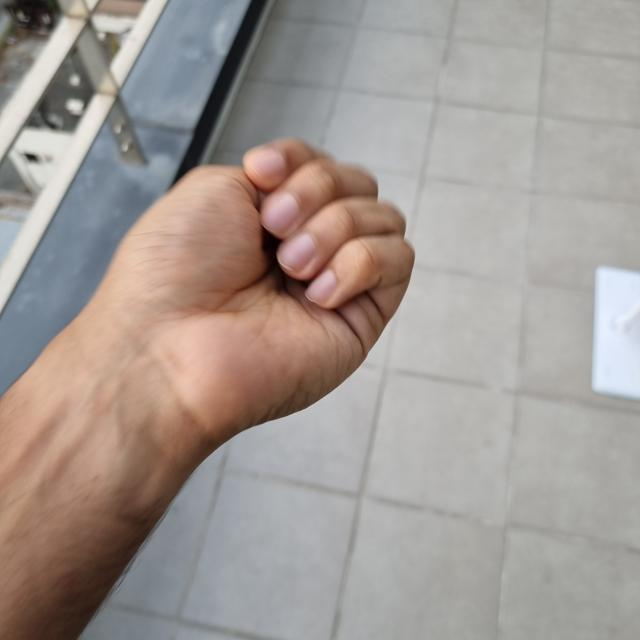Rock: (58, 138, 414, 450)
